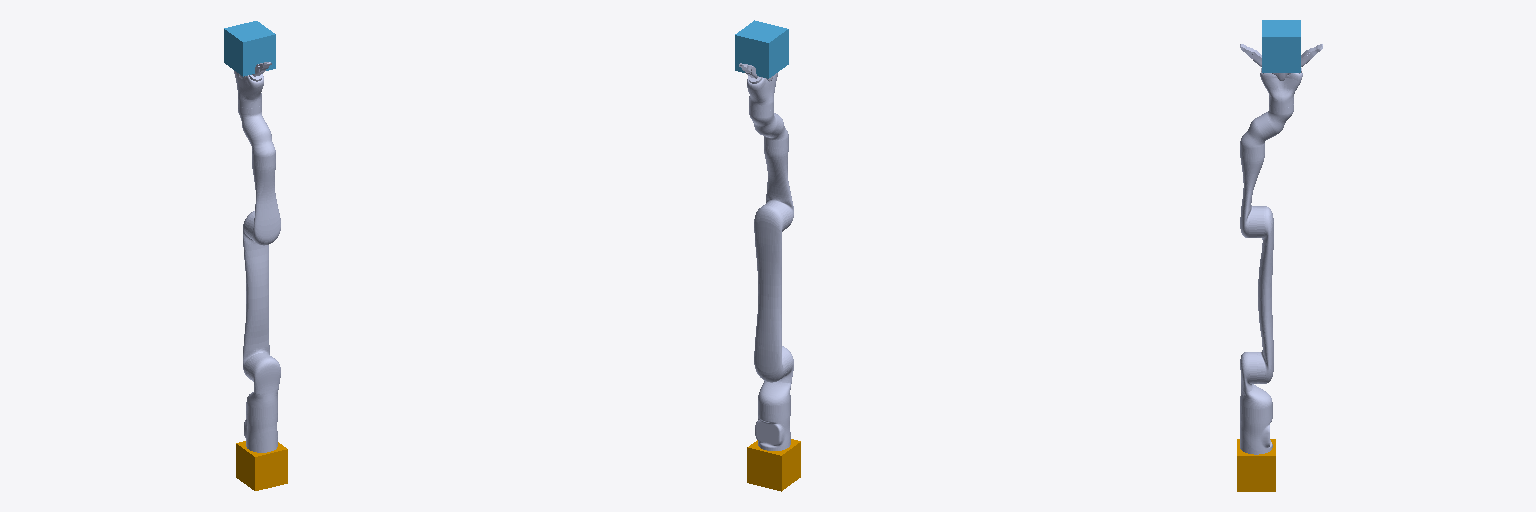
robot.urdf — j2n6s200:
<?xml version="1.0" ?>

<!-- ================================================================================================ -->
<!-- Note: This URDF file and associated content are based on files from the GitHub repository below. -->
<!--       Geometry files were converted as necessary to a format supported by Simscape Multibody.    -->
<!--       Adjustments were made to the URDF file for compatibility with Simscape Multibody.          -->
<!--                                                                                                  -->
<!-- GitHub source: https://github.com/Kinovarobotics/kinova-ros/tree/v1.2.1                          -->
<!-- ================================================================================================ -->

<!-- =================================================================================== -->
<!-- |    This document was autogenerated by xacro from j2n6s200_standalone.xacro      | -->
<!-- |    EDITING THIS FILE BY HAND IS NOT RECOMMENDED                                 | -->
<!-- =================================================================================== -->
<!-- j2n6s200 refers to jaco v2 6DOF non-spherical 2fingers -->
<robot name="j2n6s200" xmlns:body="http://playerstage.sourceforge.net/gazebo/xmlschema/#body" xmlns:controller="http://playerstage.sourceforge.net/gazebo/xmlschema/#controller" xmlns:gazebo="http://playerstage.sourceforge.net/gazebo/xmlschema/#gz" xmlns:geom="http://playerstage.sourceforge.net/gazebo/xmlschema/#geom" xmlns:interface="http://playerstage.sourceforge.net/gazebo/xmlschema/#interface" xmlns:joint="http://playerstage.sourceforge.net/gazebo/xmlschema/#joint" xmlns:model="http://playerstage.sourceforge.net/gazebo/xmlschema/#model" xmlns:physics="http://playerstage.sourceforge.net/gazebo/xmlschema/#physics" xmlns:renderable="http://playerstage.sourceforge.net/gazebo/xmlschema/#renderable" xmlns:rendering="http://playerstage.sourceforge.net/gazebo/xmlschema/#rendering" xmlns:sensor="http://playerstage.sourceforge.net/gazebo/xmlschema/#sensor" xmlns:xacro="http://ros.org/wiki/xacro" xmlns:xi="http://www.w3.org/2001/XInclude">
  <!-- links      		mesh_no
   base           		0
   shoulder       		1
   arm            		2
   forearm        		3
   wrist          		4
   arm_mico       		5
   arm_half1 (7dof)		6
   arm_half2 (7dof)		7
   wrist_spherical_1  8
   wrist_spherical_2  9

   hand 3 finger  		55
   hand_2finger   		56
   finger_proximal		57
   finger_distal      58 
-->
  <!-- links      		mesh_no
   base           		0
   shoulder       		1
   arm            		2
   forearm        		3
   wrist          		4
   arm_mico       		5
   arm_half1 (7dof)		6
   arm_half2 (7dof)		7
   wrist_spherical_1  8
   wrist_spherical_2  9

   hand 3 finger  		55
   hand_2finger   		56
   finger_proximal		57
   finger_distal      58 
-->
  <link name="root">
    <visual>
      <origin rpy="0 0 0" xyz="0 0 0"/>
      <geometry>
        <box size="0.1 0.1 0.1"/>
      </geometry>
      <!--<material name="Black" /> -->
    </visual>
    <collision>
      <origin rpy="0 0 0" xyz="0 0 0"/>
      <geometry>
        <box size="0 0 0"/>
      </geometry>
    </collision>
  </link>
  <!-- for gazebo -->
  <link name="world"/>
  <joint name="connect_root_and_world" type="fixed">
    <child link="root"/>
    <parent link="world"/>
    <origin rpy="0 0 0" xyz="0 0 0"/>
  </joint>
  <!-- ros_control plugin -->
  <gazebo>
    <plugin filename="libgazebo_ros_control.so" name="gazebo_ros_control">
      <robotNamespace>j2n6s200</robotNamespace>
      <robotSimType>gazebo_ros_control/DefaultRobotHWSim</robotSimType>
    </plugin>
  </gazebo>
  <link name="j2n6s200_link_base">
    <visual>
      <geometry>
        <mesh filename="J2N6S200_base.stl"/>
      </geometry>
      <material name="carbon_fiber">
        <color rgba="0.792156862745098 0.819607843137255 0.933333333333333 1"/>
      </material>
    </visual>
    <collision>
      <geometry>
        <mesh filename="package://kinova_description/meshes/base.dae"/>
      </geometry>
    </collision>
    <inertial>
      <mass value="0.46784"/>
      <origin rpy="0 0 0" xyz="0 0 0.1255"/>
      <inertia ixx="0.000951270861568" ixy="0" ixz="0" iyy="0.000951270861568" iyz="0" izz="0.000374272"/>
    </inertial>
  </link>
  <joint name="j2n6s200_joint_base" type="fixed">
    <parent link="root"/>
    <child link="j2n6s200_link_base"/>
    <axis xyz="0 0 0"/>
    <limit effort="2000" lower="0" upper="0" velocity="1"/>
    <origin rpy="0 0 0" xyz="0 0 0"/>
    <dynamics damping="0.0" friction="0.0"/>
  </joint>
  <link name="j2n6s200_link_1">
    <visual>
      <geometry>
        <mesh filename="J2N6S200_shoulder.stl"/>
      </geometry>
      <material name="carbon_fiber">
        <color rgba="0.792156862745098 0.819607843137255 0.933333333333333 1"/>
      </material>
    </visual>
    <visual>
      <geometry>
        <mesh filename="J2N6S200_ring_big.STL"/>
      </geometry>
    </visual>
    <collision>
      <geometry>
        <mesh filename="package://kinova_description/meshes/shoulder.dae"/>
      </geometry>
    </collision>
    <inertial>
      <mass value="0.7477"/>
      <origin xyz="0 -0.002 -0.0605"/>
      <inertia ixx="0.00152031725204" ixy="0" ixz="0" iyy="0.00152031725204" iyz="0" izz="0.00059816"/>
    </inertial>
  </link>
  <joint name="j2n6s200_joint_1" type="continuous">
    <parent link="j2n6s200_link_base"/>
    <child link="j2n6s200_link_1"/>
    <axis xyz="0 0 1"/>
    <limit effort="2000" lower="-6.28318530718" upper="6.28318530718" velocity="1"/>
    <origin rpy="0 3.14159265359 0" xyz="0 0 0.15675"/>
    <dynamics damping="0.0" friction="0.0"/>
  </joint>
  <transmission name="j2n6s200_joint_1_trans">
    <type>transmission_interface/SimpleTransmission</type>
    <joint name="j2n6s200_joint_1">
      <hardwareInterface>EffortJointInterface</hardwareInterface>
    </joint>
    <actuator name="j2n6s200_joint_1_actuator">
      <hardwareInterface>EffortJointInterface</hardwareInterface>
      <mechanicalReduction>160</mechanicalReduction>
    </actuator>
  </transmission>
  <link name="j2n6s200_link_2">
    <visual>
      <geometry>
        <mesh filename="J2N6S200_arm.stl"/>
      </geometry>
      <material name="carbon_fiber">
        <color rgba="0.792156862745098 0.819607843137255 0.933333333333333 1"/>
      </material>
    </visual>
    <visual>
      <geometry>
        <mesh filename="J2N6S200_ring_big.STL"/>
      </geometry>
    </visual>
    <collision>
      <geometry>
        <mesh filename="package://kinova_description/meshes/arm.dae"/>
      </geometry>
    </collision>
    <inertial>
      <mass value="0.99"/>
      <origin xyz="0 -0.2065 -0.01"/>
      <inertia ixx="0.010502207991" ixy="0" ixz="0" iyy="0.000792" iyz="0" izz="0.010502207991"/>
    </inertial>
  </link>
  <joint name="j2n6s200_joint_2" type="revolute">
    <parent link="j2n6s200_link_1"/>
    <child link="j2n6s200_link_2"/>
    <axis xyz="0 0 1"/>
    <limit effort="2000" lower="0.820304748437" upper="5.46288055874" velocity="1"/>
    <origin rpy="-1.57079632679 0 3.14159265359" xyz="0 0.0016 -0.11875"/>
    <dynamics damping="0.0" friction="0.0"/>
  </joint>
  <transmission name="j2n6s200_joint_2_trans">
    <type>transmission_interface/SimpleTransmission</type>
    <joint name="j2n6s200_joint_2">
      <hardwareInterface>EffortJointInterface</hardwareInterface>
    </joint>
    <actuator name="j2n6s200_joint_2_actuator">
      <hardwareInterface>EffortJointInterface</hardwareInterface>
      <mechanicalReduction>160</mechanicalReduction>
    </actuator>
  </transmission>
  <link name="j2n6s200_link_3">
    <visual>
      <geometry>
        <mesh filename="J2N6S200_forearm.stl"/>
      </geometry>
      <material name="carbon_fiber">
        <color rgba="0.792156862745098 0.819607843137255 0.933333333333333 1"/>
      </material>
    </visual>
    <visual>
      <geometry>
        <mesh filename="J2N6S200_ring_big.STL"/>
      </geometry>
    </visual>
    <collision>
      <geometry>
        <mesh filename="package://kinova_description/meshes/forearm.dae"/>
      </geometry>
    </collision>
    <inertial>
      <mass value="0.6763"/>
      <origin xyz="0 0.081 -0.0086"/>
      <inertia ixx="0.00142022431908" ixy="0" ixz="0" iyy="0.000304335" iyz="0" izz="0.00142022431908"/>
    </inertial>
  </link>
  <joint name="j2n6s200_joint_3" type="revolute">
    <parent link="j2n6s200_link_2"/>
    <child link="j2n6s200_link_3"/>
    <axis xyz="0 0 1"/>
    <limit effort="2000" lower="0.331612557879" upper="5.9515727493" velocity="1"/>
    <origin rpy="0 3.14159265359 0" xyz="0 -0.410 0"/>
    <dynamics damping="0.0" friction="0.0"/>
  </joint>
  <transmission name="j2n6s200_joint_3_trans">
    <type>transmission_interface/SimpleTransmission</type>
    <joint name="j2n6s200_joint_3">
      <hardwareInterface>EffortJointInterface</hardwareInterface>
    </joint>
    <actuator name="j2n6s200_joint_3_actuator">
      <hardwareInterface>EffortJointInterface</hardwareInterface>
      <mechanicalReduction>160</mechanicalReduction>
    </actuator>
  </transmission>
  <link name="j2n6s200_link_4">
    <visual>
      <geometry>
        <mesh filename="J2N6S200_wrist.stl"/>
      </geometry>
      <material name="carbon_fiber">
        <color rgba="0.792156862745098 0.819607843137255 0.933333333333333 1"/>
      </material>
    </visual>
    <visual>
      <geometry>
        <mesh filename="J2N6S200_ring_small.STL"/>
      </geometry>
    </visual>
    <collision>
      <geometry>
        <mesh filename="package://kinova_description/meshes/wrist.dae"/>
      </geometry>
    </collision>
    <inertial>
      <mass value="0.426367"/>
      <origin xyz="0 -0.037 -0.0642"/>
      <inertia ixx="7.73496906e-05" ixy="0" ixz="0" iyy="7.73496906e-05" iyz="0" izz="0.0001428"/>
    </inertial>
  </link>
  <joint name="j2n6s200_joint_4" type="continuous">
    <parent link="j2n6s200_link_3"/>
    <child link="j2n6s200_link_4"/>
    <axis xyz="0 0 1"/>
    <limit effort="2000" lower="-6.28318530718" upper="6.28318530718" velocity="1"/>
    <origin rpy="-1.57079632679 0 3.14159265359" xyz="0 0.2073 -0.0114"/>
    <dynamics damping="0.0" friction="0.0"/>
  </joint>
  <transmission name="j2n6s200_joint_4_trans">
    <type>transmission_interface/SimpleTransmission</type>
    <joint name="j2n6s200_joint_4">
      <hardwareInterface>EffortJointInterface</hardwareInterface>
    </joint>
    <actuator name="j2n6s200_joint_4_actuator">
      <hardwareInterface>EffortJointInterface</hardwareInterface>
      <mechanicalReduction>160</mechanicalReduction>
    </actuator>
  </transmission>
  <link name="j2n6s200_link_5">
    <visual>
      <geometry>
        <mesh filename="J2N6S200_wrist.stl"/>
      </geometry>
      <material name="carbon_fiber">
        <color rgba="0.792156862745098 0.819607843137255 0.933333333333333 1"/>
      </material>
    </visual>
    <visual>
      <geometry>
        <mesh filename="J2N6S200_ring_small.STL"/>
      </geometry>
    </visual>
    <collision>
      <geometry>
        <mesh filename="package://kinova_description/meshes/wrist.dae"/>
      </geometry>
    </collision>
    <inertial>
      <mass value="0.426367"/>
      <origin xyz="0 -0.037 -0.0642"/>
      <inertia ixx="7.73496906e-05" ixy="0" ixz="0" iyy="7.73496906e-05" iyz="0" izz="0.0001428"/>
    </inertial>
  </link>
  <joint name="j2n6s200_joint_5" type="continuous">
    <parent link="j2n6s200_link_4"/>
    <child link="j2n6s200_link_5"/>
    <axis xyz="0 0 1"/>
    <limit effort="2000" lower="-6.28318530718" upper="6.28318530718" velocity="1"/>
    <origin rpy="1.0471975512 0 3.14159265359" xyz="0 -0.03703 -0.06414"/>
    <dynamics damping="0.0" friction="0.0"/>
  </joint>
  <transmission name="j2n6s200_joint_5_trans">
    <type>transmission_interface/SimpleTransmission</type>
    <joint name="j2n6s200_joint_5">
      <hardwareInterface>EffortJointInterface</hardwareInterface>
    </joint>
    <actuator name="j2n6s200_joint_5_actuator">
      <hardwareInterface>EffortJointInterface</hardwareInterface>
      <mechanicalReduction>160</mechanicalReduction>
    </actuator>
  </transmission>
  <link name="j2n6s200_link_6">
    <visual>
      <geometry>
        <mesh filename="J2N6S200_hand_2finger.stl"/>
      </geometry>
      <material name="carbon_fiber">
        <color rgba="0.792156862745098 0.819607843137255 0.933333333333333 1"/>
      </material>
    </visual>
    <visual>
      <geometry>
        <mesh filename="J2N6S200_ring_small.STL"/>
      </geometry>
    </visual>
    <collision>
      <geometry>
        <mesh filename="package://kinova_description/meshes/hand_2finger.dae"/>
      </geometry>
    </collision>
    <inertial>
      <mass value="0.78"/>
      <origin xyz="0 0 -0.06"/>
      <inertia ixx="0.000370498518" ixy="0" ixz="0" iyy="0.000370498518" iyz="0" izz="0.000624"/>
    </inertial>
  </link>
  <joint name="j2n6s200_joint_6" type="continuous">
    <parent link="j2n6s200_link_5"/>
    <child link="j2n6s200_link_6"/>
    <axis xyz="0 0 1"/>
    <limit effort="2000" lower="-6.28318530718" upper="6.28318530718" velocity="1"/>
    <origin rpy="1.0471975512 0 3.14159265359" xyz="0 -0.03703 -0.06414"/>
    <dynamics damping="0.0" friction="0.0"/>
  </joint>
  <transmission name="j2n6s200_joint_6_trans">
    <type>transmission_interface/SimpleTransmission</type>
    <joint name="j2n6s200_joint_6">
      <hardwareInterface>EffortJointInterface</hardwareInterface>
    </joint>
    <actuator name="j2n6s200_joint_6_actuator">
      <hardwareInterface>EffortJointInterface</hardwareInterface>
      <mechanicalReduction>160</mechanicalReduction>
    </actuator>
  </transmission>
  <link name="j2n6s200_end_effector">
    <visual>
      <geometry>
        <box size="0.1 0.1 0.1"/>
      </geometry>
    </visual>
    <collision>
      <geometry>
        <box size="0 0 0"/>
      </geometry>
    </collision>
  </link>
  <joint name="j2n6s200_joint_end_effector" type="fixed">
    <parent link="j2n6s200_link_6"/>
    <child link="j2n6s200_end_effector"/>
    <axis xyz="0 0 0"/>
    <limit effort="2000" lower="0" upper="0" velocity="1"/>
    <origin rpy="3.14159265359 0 1.57079632679" xyz="0 0 -0.1600"/>
  </joint>
  <link name="j2n6s200_link_finger_1">
    <visual>
      <geometry>
        <mesh filename="J2N6S200_finger_proximal.stl"/>
      </geometry>
      <material name="carbon_fiber">
        <color rgba="0.792156862745098 0.819607843137255 0.933333333333333 1"/>
      </material>
    </visual>
    <collision>
      <geometry>
        <mesh filename="package://kinova_description/meshes/finger_proximal.dae"/>
      </geometry>
    </collision>
    <inertial>
      <mass value="0.01"/>
      <origin xyz="0.022 0 0"/>
      <inertia ixx="7.8999684e-07" ixy="0" ixz="0" iyy="7.8999684e-07" iyz="0" izz="8e-08"/>
    </inertial>
  </link>
  <joint name="j2n6s200_joint_finger_1" type="revolute">
    <parent link="j2n6s200_link_6"/>
    <child link="j2n6s200_link_finger_1"/>
    <axis xyz="0 0 1"/>
    <origin rpy="-1.570796327 .649262481663582 1.57079632679490" xyz="-0.0025 0.03095 -0.11482"/>
    <limit effort="2000" lower="0" upper="2" velocity="1"/>
  </joint>
  <transmission name="j2n6s200_joint_finger_1_trans">
    <type>transmission_interface/SimpleTransmission</type>
    <joint name="j2n6s200_joint_finger_1">
      <hardwareInterface>EffortJointInterface</hardwareInterface>
    </joint>
    <actuator name="j2n6s200_joint_finger_1_actuator">
      <hardwareInterface>EffortJointInterface</hardwareInterface>
      <mechanicalReduction>1</mechanicalReduction>
    </actuator>
  </transmission>
  <link name="j2n6s200_link_finger_tip_1">
    <visual>
      <geometry>
        <mesh filename="J2N6S200_finger_distal.stl"/>
      </geometry>
      <material name="carbon_fiber">
        <color rgba="0.792156862745098 0.819607843137255 0.933333333333333 1"/>
      </material>
    </visual>
    <collision>
      <geometry>
        <mesh filename="package://kinova_description/meshes/finger_distal.dae"/>
      </geometry>
    </collision>
    <inertial>
      <mass value="0.01"/>
      <origin xyz="0.022 0 0"/>
      <inertia ixx="7.8999684e-07" ixy="0" ixz="0" iyy="7.8999684e-07" iyz="0" izz="8e-08"/>
    </inertial>
  </link>
  <joint name="j2n6s200_joint_finger_tip_1" type="fixed">
    <parent link="j2n6s200_link_finger_1"/>
    <child link="j2n6s200_link_finger_tip_1"/>
    <axis xyz="0 0 1"/>
    <origin rpy="0 0 0" xyz="0.044 -0.003 0"/>
    <limit effort="2000" lower="0" upper="2" velocity="1"/>
  </joint>
  <link name="j2n6s200_link_finger_2">
    <visual>
      <geometry>
        <mesh filename="J2N6S200_finger_proximal.stl"/>
      </geometry>
      <material name="carbon_fiber">
        <color rgba="0.792156862745098 0.819607843137255 0.933333333333333 1"/>
      </material>
    </visual>
    <collision>
      <geometry>
        <mesh filename="package://kinova_description/meshes/finger_proximal.dae"/>
      </geometry>
    </collision>
    <inertial>
      <mass value="0.01"/>
      <origin xyz="0.022 0 0"/>
      <inertia ixx="7.8999684e-07" ixy="0" ixz="0" iyy="7.8999684e-07" iyz="0" izz="8e-08"/>
    </inertial>
  </link>
  <joint name="j2n6s200_joint_finger_2" type="revolute">
    <parent link="j2n6s200_link_6"/>
    <child link="j2n6s200_link_finger_2"/>
    <axis xyz="0 0 1"/>
    <origin rpy="-1.570796327 .649262481663582 -1.57079632679490" xyz="-0.0025 -0.03095 -0.11482"/>
    <limit effort="2000" lower="0" upper="2" velocity="1"/>
  </joint>
  <transmission name="j2n6s200_joint_finger_2_trans">
    <type>transmission_interface/SimpleTransmission</type>
    <joint name="j2n6s200_joint_finger_2">
      <hardwareInterface>EffortJointInterface</hardwareInterface>
    </joint>
    <actuator name="j2n6s200_joint_finger_2_actuator">
      <hardwareInterface>EffortJointInterface</hardwareInterface>
      <mechanicalReduction>1</mechanicalReduction>
    </actuator>
  </transmission>
  <link name="j2n6s200_link_finger_tip_2">
    <visual>
      <geometry>
        <mesh filename="J2N6S200_finger_distal.stl"/>
      </geometry>
      <material name="carbon_fiber">
        <color rgba="0.792156862745098 0.819607843137255 0.933333333333333 1"/>
      </material>
    </visual>
    <collision>
      <geometry>
        <mesh filename="package://kinova_description/meshes/finger_distal.dae"/>
      </geometry>
    </collision>
    <inertial>
      <mass value="0.01"/>
      <origin xyz="0.022 0 0"/>
      <inertia ixx="7.8999684e-07" ixy="0" ixz="0" iyy="7.8999684e-07" iyz="0" izz="8e-08"/>
    </inertial>
  </link>
  <joint name="j2n6s200_joint_finger_tip_2" type="fixed">
    <parent link="j2n6s200_link_finger_2"/>
    <child link="j2n6s200_link_finger_tip_2"/>
    <axis xyz="0 0 1"/>
    <origin rpy="0 0 0" xyz="0.044 -0.003 0"/>
    <limit effort="2000" lower="0" upper="2" velocity="1"/>
  </joint>
</robot>

--- Render facts (derived) ---
The picture shows the robot from 3 angles, left to right: view 1: azimuth 30°, elevation 25°; view 2: azimuth 150°, elevation 25°; view 3: azimuth 270°, elevation 25°; orthographic projection.
Robot: j2n6s200 — 14 links, 13 joints (4 revolute, 4 continuous, 5 fixed); root link world; default pose: all joints at 0 but 2 set to mid-range because 0 is outside their limits (j2n6s200_joint_2 = 3.14, j2n6s200_joint_3 = 3.14).
Links seen in each view (by area): view 1: j2n6s200_link_2, j2n6s200_end_effector, j2n6s200_link_3, root, j2n6s200_link_1, j2n6s200_link_base, j2n6s200_link_4, j2n6s200_link_6; view 2: j2n6s200_link_2, j2n6s200_end_effector, root, j2n6s200_link_3, j2n6s200_link_base, j2n6s200_link_1, j2n6s200_link_6, j2n6s200_link_5; view 3: j2n6s200_link_2, j2n6s200_end_effector, root, j2n6s200_link_1, j2n6s200_link_3, j2n6s200_link_base, j2n6s200_link_6, j2n6s200_link_4, j2n6s200_link_5.
Boxes of the visible links, x1,y1,x2,y2 form: j2n6s200_link_2: [243, 211, 269, 379]; j2n6s200_end_effector: [224, 21, 275, 76]; j2n6s200_link_3: [248, 159, 280, 245]; root: [236, 441, 287, 490]; j2n6s200_link_1: [246, 354, 280, 415]; j2n6s200_link_base: [244, 410, 277, 452]; j2n6s200_link_4: [246, 123, 275, 162]; j2n6s200_link_6: [234, 71, 263, 108]; j2n6s200_link_2: [754, 203, 787, 382]; j2n6s200_end_effector: [735, 20, 788, 78]; root: [747, 439, 800, 491]; j2n6s200_link_3: [764, 143, 793, 228]; j2n6s200_link_base: [755, 407, 790, 450]; j2n6s200_link_1: [758, 346, 793, 412]; j2n6s200_link_6: [747, 73, 777, 111]; j2n6s200_link_5: [749, 108, 779, 136]; j2n6s200_link_2: [1257, 206, 1273, 383]; j2n6s200_end_effector: [1262, 20, 1300, 72]; root: [1237, 439, 1275, 491]; j2n6s200_link_1: [1240, 352, 1272, 416]; j2n6s200_link_3: [1240, 150, 1264, 237]; j2n6s200_link_base: [1240, 410, 1272, 454]; j2n6s200_link_6: [1260, 68, 1302, 107]; j2n6s200_link_4: [1240, 116, 1271, 153]; j2n6s200_link_5: [1261, 104, 1293, 136].
Bounding box of the posed robot: 0.1 × 0.2204 × 1.28 m (x, y, z).
11 mesh visuals loaded from 10 distinct referenced files (8 binary STL); not drawn: 6 (reference not matched to a file when rendering).